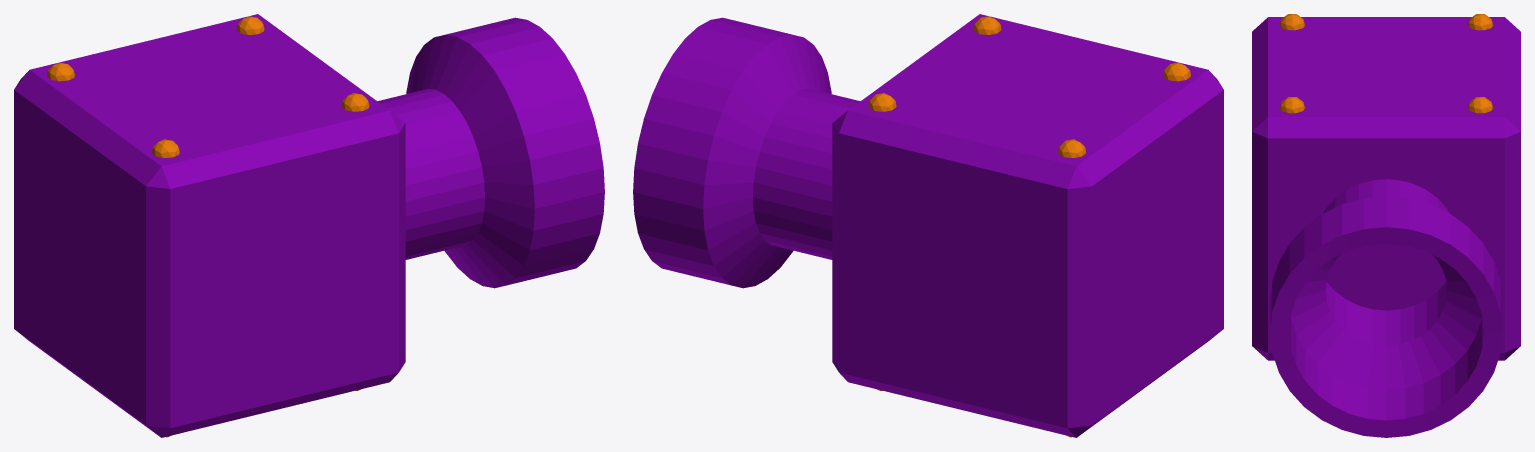
The model's file is Cannon.fbx.
The picture shows the model from 3 angles, left to right: view 1: azimuth 30°, elevation 25°; view 2: azimuth 150°, elevation 25°; view 3: azimuth 270°, elevation 25°; orthographic projection. The views are drawn at different scales.
Parts seen in each view (by area): view 1: Cylinder; view 2: Cylinder; view 3: Cylinder.
Boxes of the visible parts, <box> form: Cylinder: <box>14,14,604,437</box>; Cylinder: <box>633,14,1223,437</box>; Cylinder: <box>1252,14,1520,437</box>.
Size of the model in its own units: 355 by 218 by 200.
